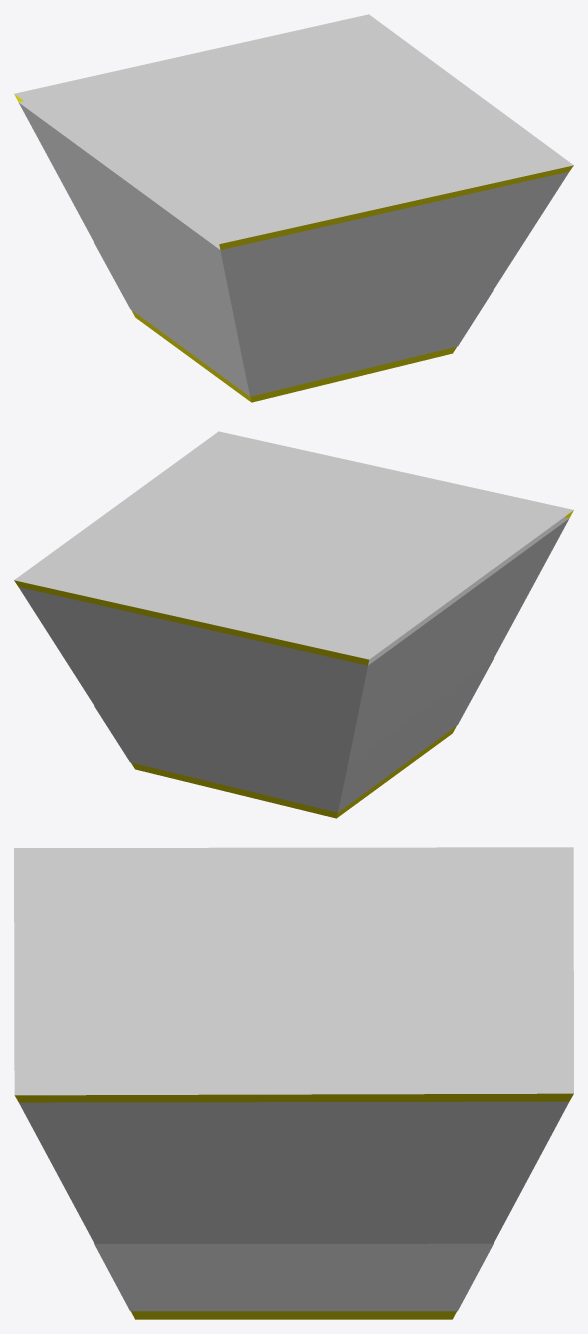
File: robot_Head_02.fbx
3 views of the same model, one above another, from view 1: azimuth 30°, elevation 25°; view 2: azimuth 150°, elevation 25°; view 3: azimuth 270°, elevation 25° (orthographic). The views are drawn at different scales.
Visible parts, largest first — view 1: Cube.003; view 2: Cube.003; view 3: Cube.003.
Part boxes in pixels (box(x1,y1,x2,y2)): Cube.003: box(14, 14, 573, 402); Cube.003: box(14, 431, 573, 818); Cube.003: box(14, 847, 573, 1319).
Bounding box in the file's own units: 126 × 71.4 × 126.
Materials: 3 (1 with a texture image).
